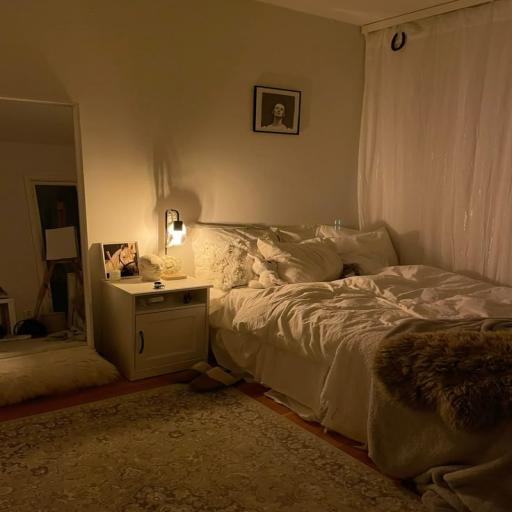person: (192, 225, 511, 511)
